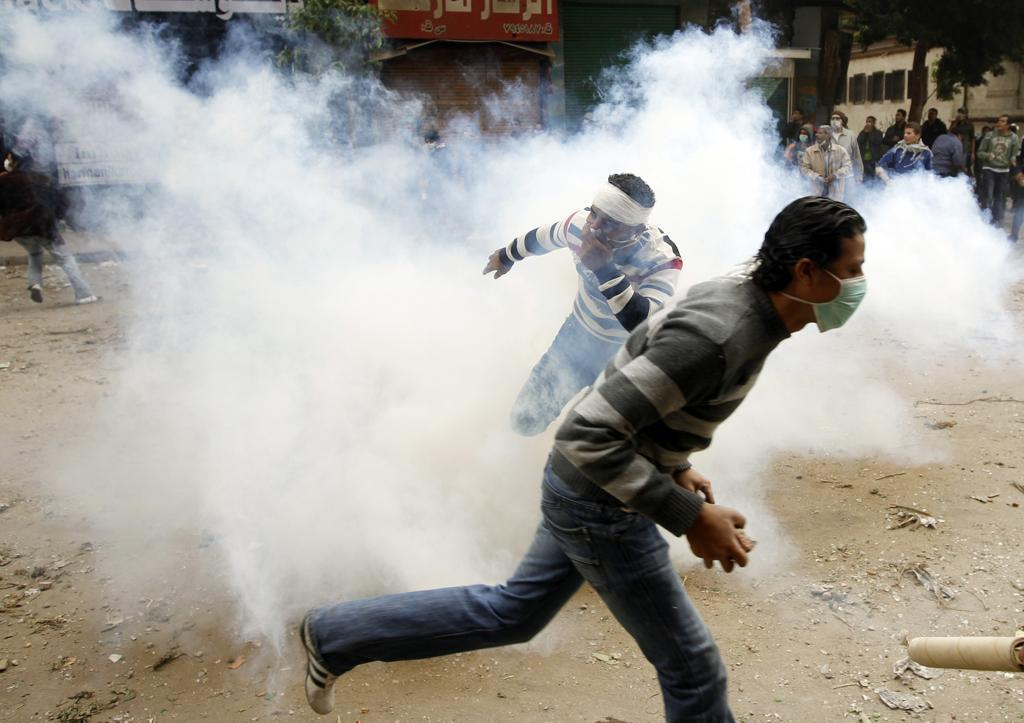face: (800, 246, 865, 322), (587, 202, 630, 249), (904, 130, 916, 144), (426, 138, 437, 150), (832, 115, 842, 127), (815, 130, 824, 142), (998, 118, 1007, 130), (800, 130, 809, 140), (929, 111, 937, 120), (896, 112, 903, 121), (512, 122, 519, 131), (959, 110, 965, 119), (867, 119, 873, 127), (794, 112, 800, 120)
